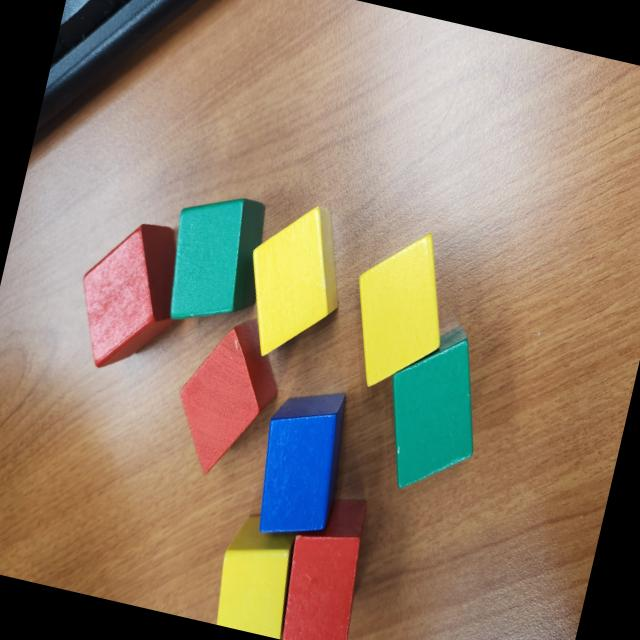blue: (243, 377, 359, 547)
green: (368, 314, 502, 504), (156, 184, 277, 336)
red: (162, 306, 292, 487), (62, 209, 196, 384), (271, 486, 378, 640)
yellow: (336, 218, 464, 400), (230, 195, 358, 372), (208, 508, 308, 640)
